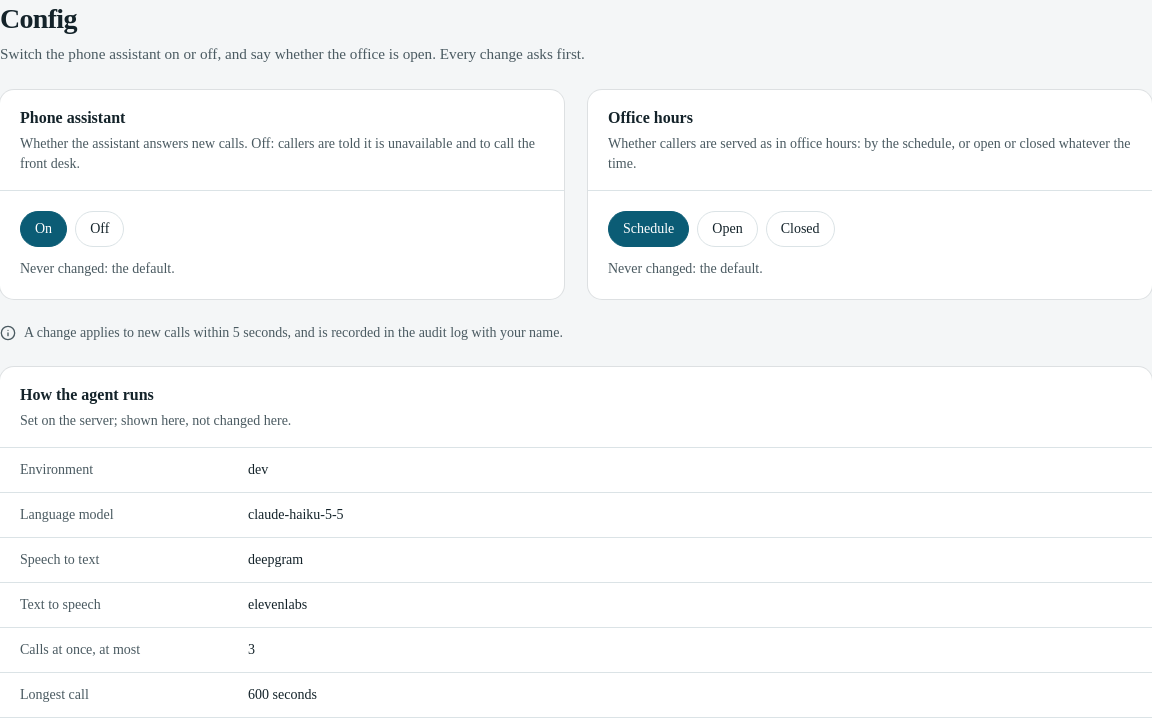
Test case: Config › asks before switching the assistant off, and Cancel sends nothing
Click the radio button labelled "Off".
click(100, 229)  # box [75,211,124,247]
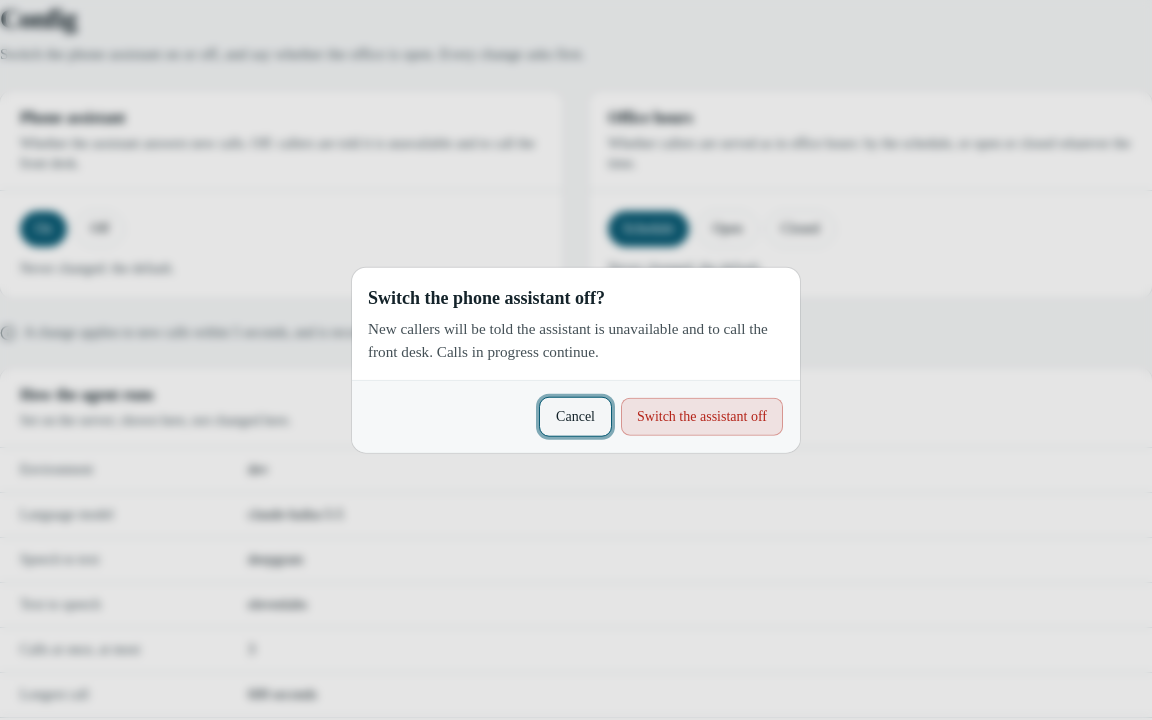
Result: the dialog shows "New callers will be told the assistant is unavailable and to call the front desk. Calls in progress continue." at [368,320,768,360]
Click the button "Cancel".
click(576, 416)  # box [539,396,612,436]
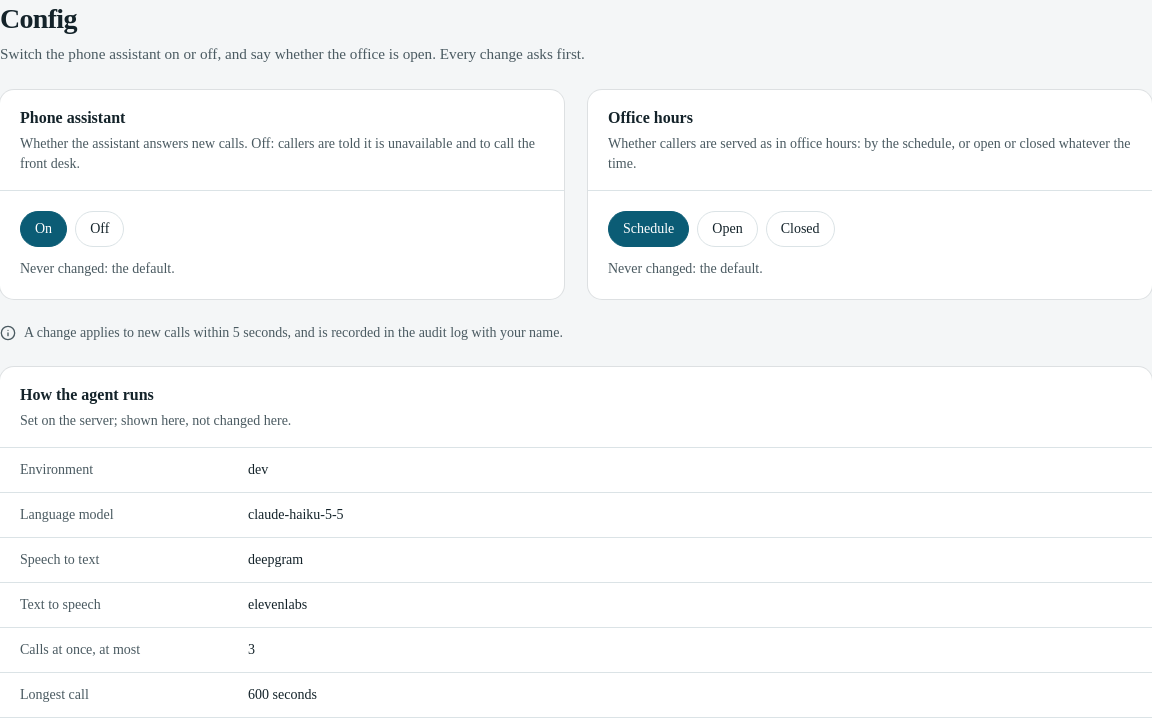
Result: the dialog is gone
